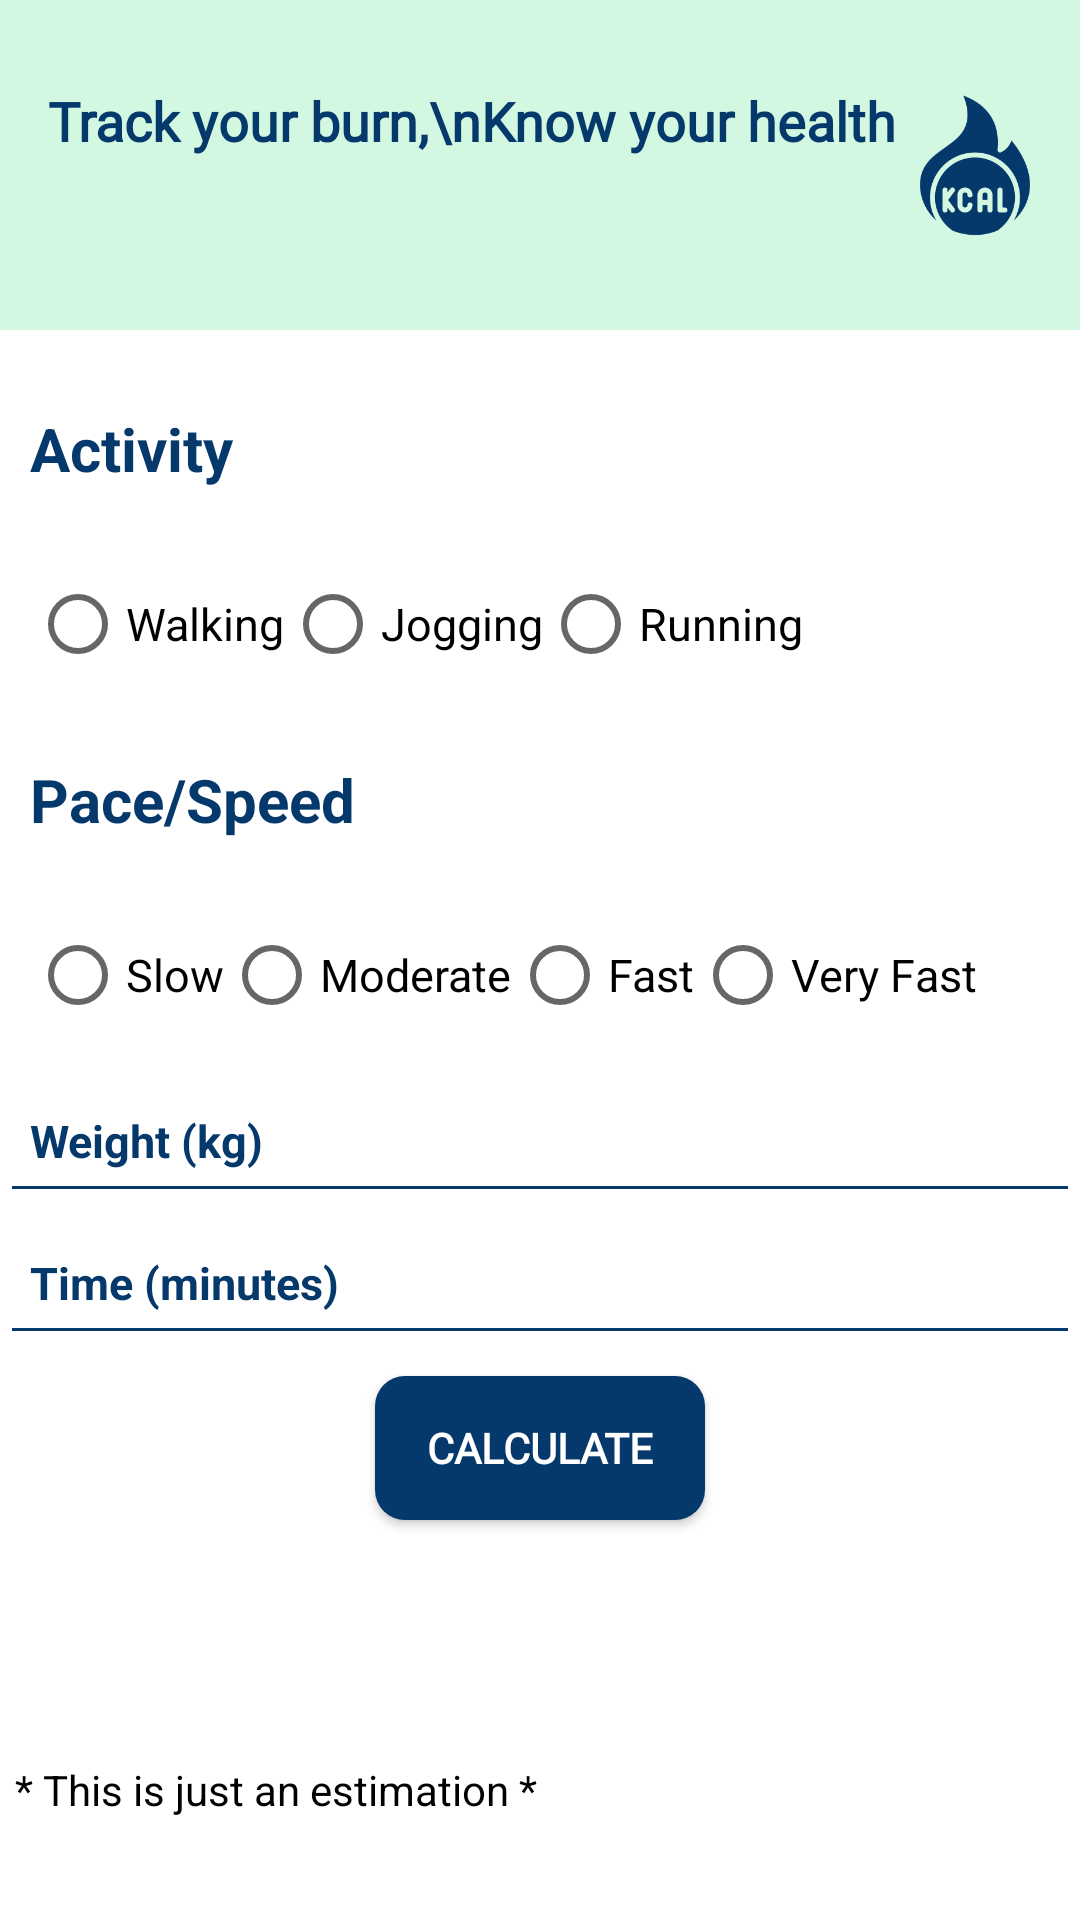

Screen size 1080px x 1920px. Icon name, then its center in pixels as point (x, y):
caloriesb: point (975, 165)
